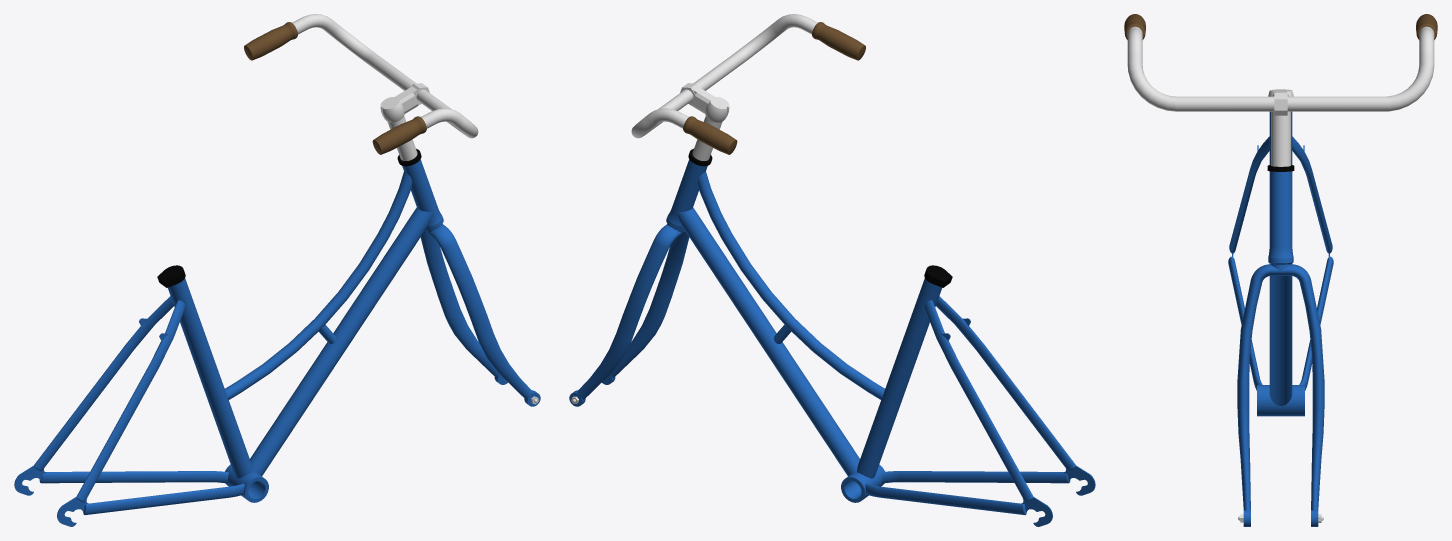
Rendered from frameBlau.glb.
The picture shows the model from 3 angles, left to right: view 1: azimuth 30°, elevation 25°; view 2: azimuth 150°, elevation 25°; view 3: azimuth 270°, elevation 25°; orthographic projection. The views are drawn at different scales.
Parts seen in each view (by area): view 1: Bike03\Rahmen, Bike03\Lenkgabel; view 2: Bike03\Rahmen, Bike03\Lenkgabel; view 3: Bike03\Lenkgabel, Bike03\Rahmen.
Part boxes in pixels (x1,y1,x2,y2): Bike03\Rahmen: (14,148,443,526); Bike03\Lenkgabel: (244,14,540,406); Bike03\Rahmen: (666,148,1095,526); Bike03\Lenkgabel: (569,14,865,406); Bike03\Lenkgabel: (1124,14,1437,526); Bike03\Rahmen: (1228,111,1333,416).
Bounding box in the file's own units: 1.14 × 0.8928 × 0.5583.
